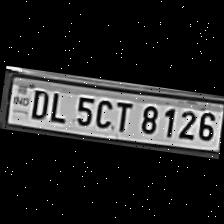1: (159, 104, 178, 138)
2: (174, 105, 198, 140)
5: (68, 90, 96, 127)
6: (194, 106, 216, 142)
8: (134, 100, 162, 136)
C: (91, 94, 115, 129)
D: (25, 84, 50, 120)
L: (44, 86, 70, 123)
T: (110, 96, 136, 133)
